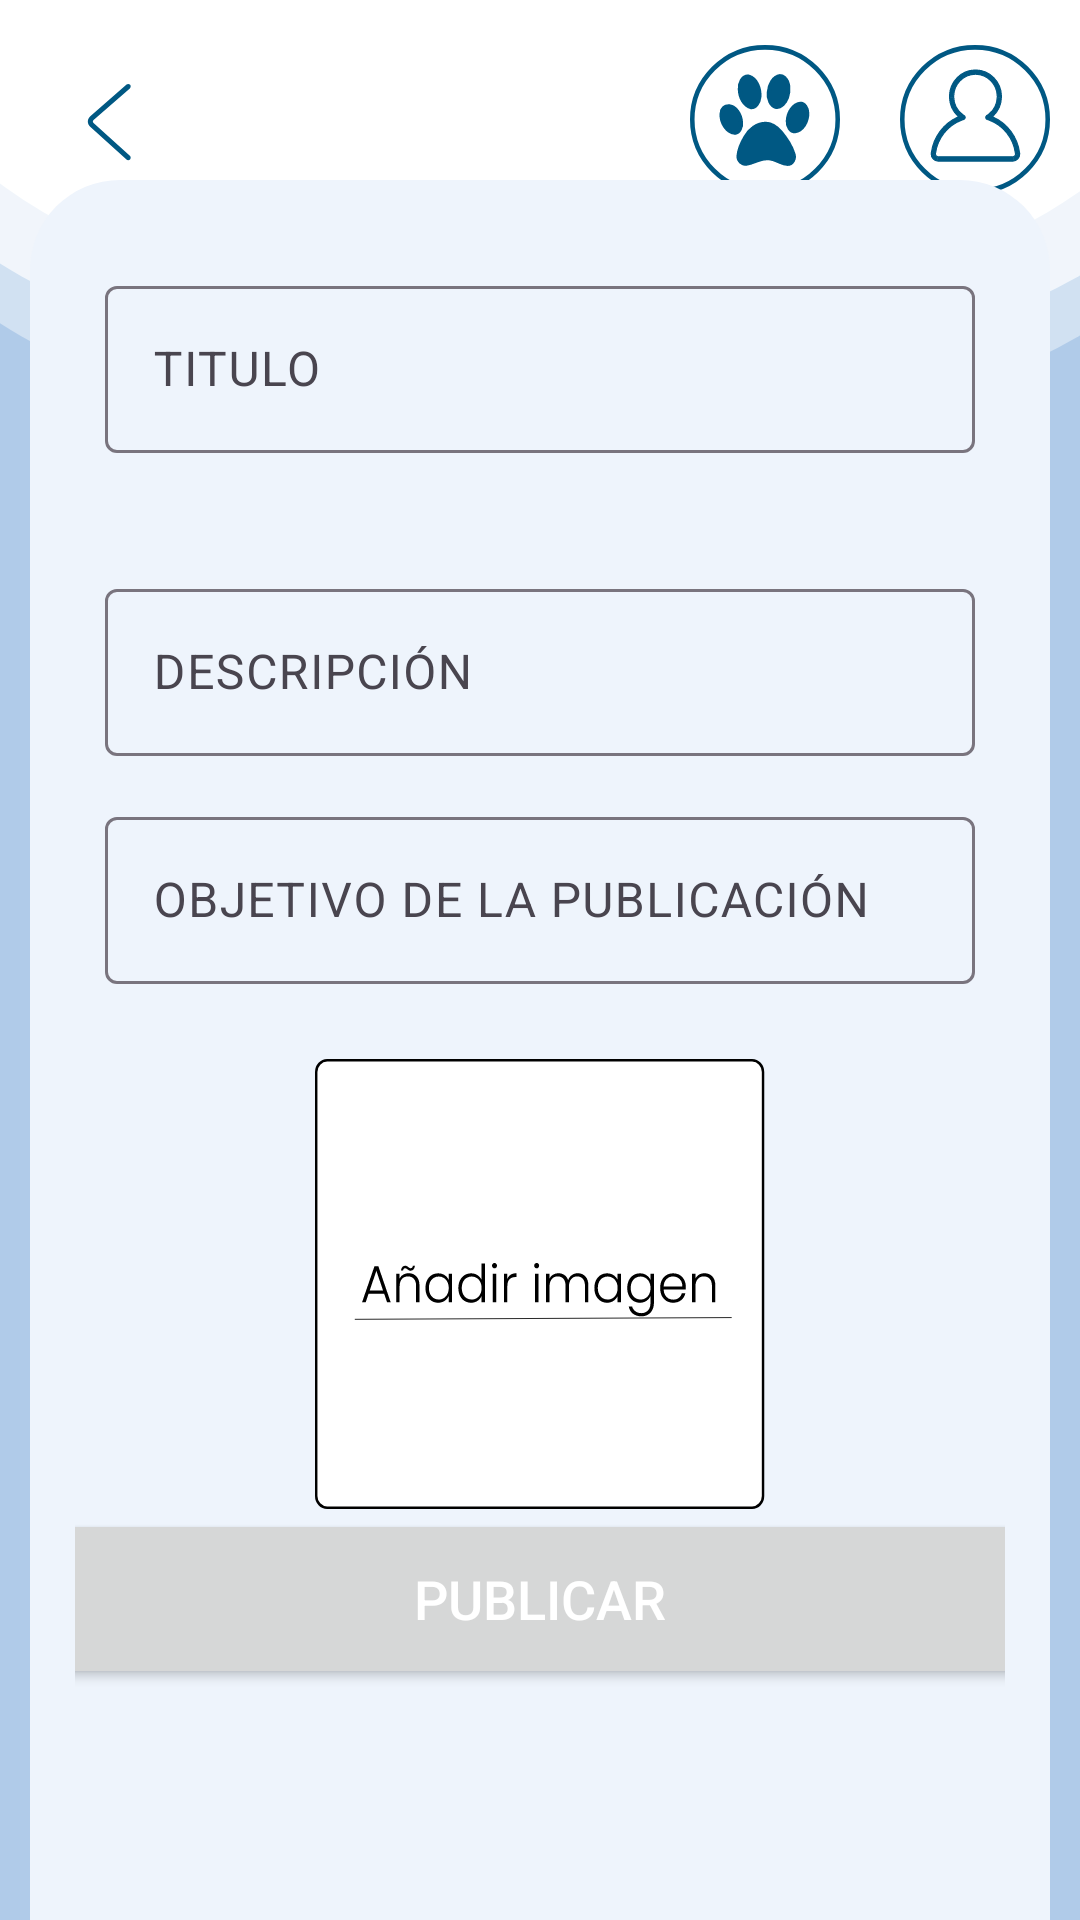

Screen size 1080*1920. Icon name, then its center in pixels as (x,y):
back arrow: (109,122)
huella: (765,112)
